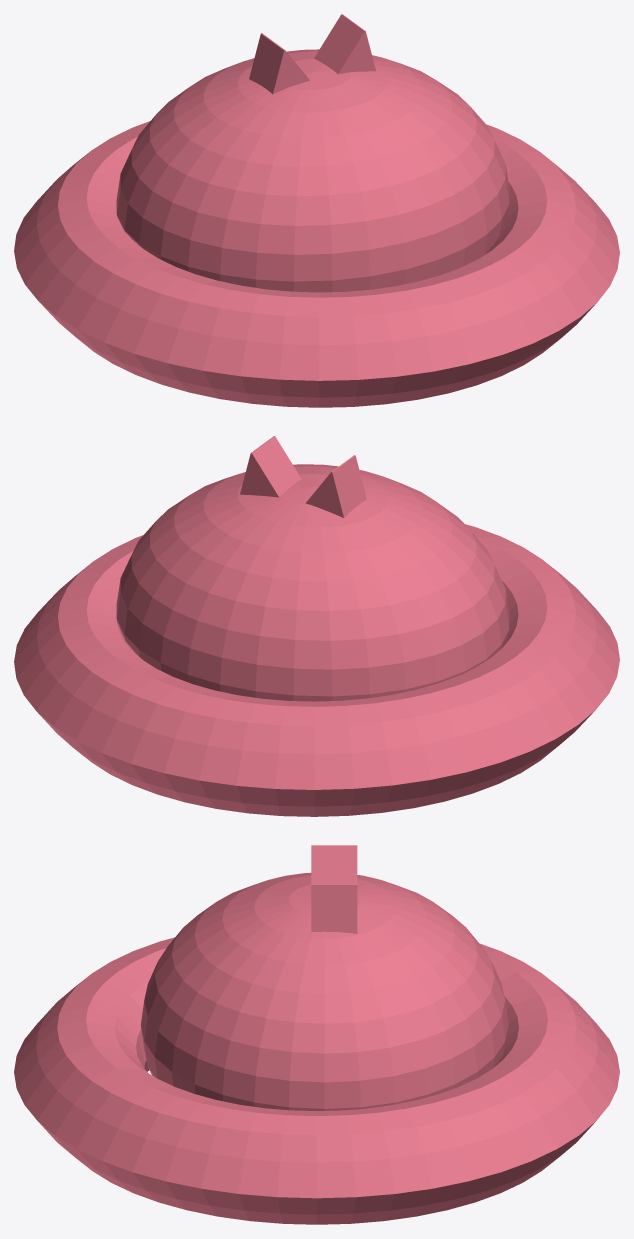
Rendered from UFO Enemie.fbx.
The picture shows the model from 3 angles, top to bottom: view 1: azimuth 30°, elevation 25°; view 2: azimuth 150°, elevation 25°; view 3: azimuth 270°, elevation 25°; orthographic projection.
Visible parts, largest first — view 1: Torus, Sphere, Cube.001, Cube; view 2: Torus, Sphere, Cube.001, Cube; view 3: Torus, Sphere, Cube.001, Cube.
Boxes of the visible parts, bbox=[...] form: Torus: bbox=[14, 121, 619, 407]; Sphere: bbox=[116, 49, 509, 292]; Cube.001: bbox=[314, 14, 375, 74]; Cube: bbox=[249, 33, 309, 94]; Torus: bbox=[14, 524, 619, 816]; Sphere: bbox=[116, 464, 509, 701]; Cube.001: bbox=[240, 436, 301, 497]; Cube: bbox=[306, 455, 366, 517]; Torus: bbox=[14, 937, 619, 1224]; Sphere: bbox=[141, 872, 508, 1110]; Cube.001: bbox=[311, 884, 357, 933]; Cube: bbox=[311, 845, 357, 884].
Size of the model in its own units: 261 by 140 by 265.
